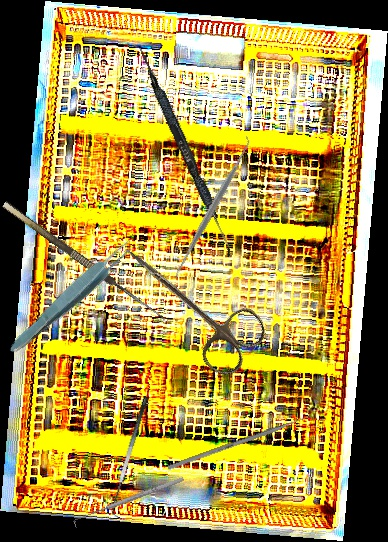Hook Surgical: (2, 192, 172, 323), (71, 475, 187, 528)
Iris Scissors: (101, 224, 274, 383)
Pusher: (166, 410, 321, 471)
Spatula Surgical: (131, 45, 240, 258), (167, 134, 259, 280), (105, 395, 159, 519)
Tissue Forceps: (4, 233, 141, 360)
